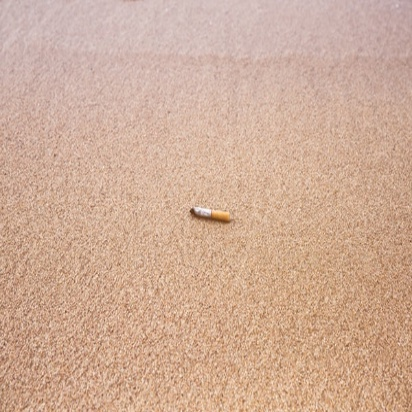cigarette: (188, 201, 238, 234)
